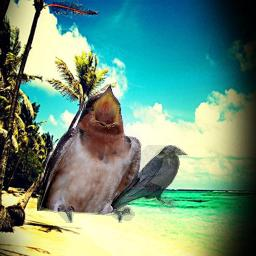Crow: (101, 145, 188, 215)
Swallow: (37, 84, 142, 223)
